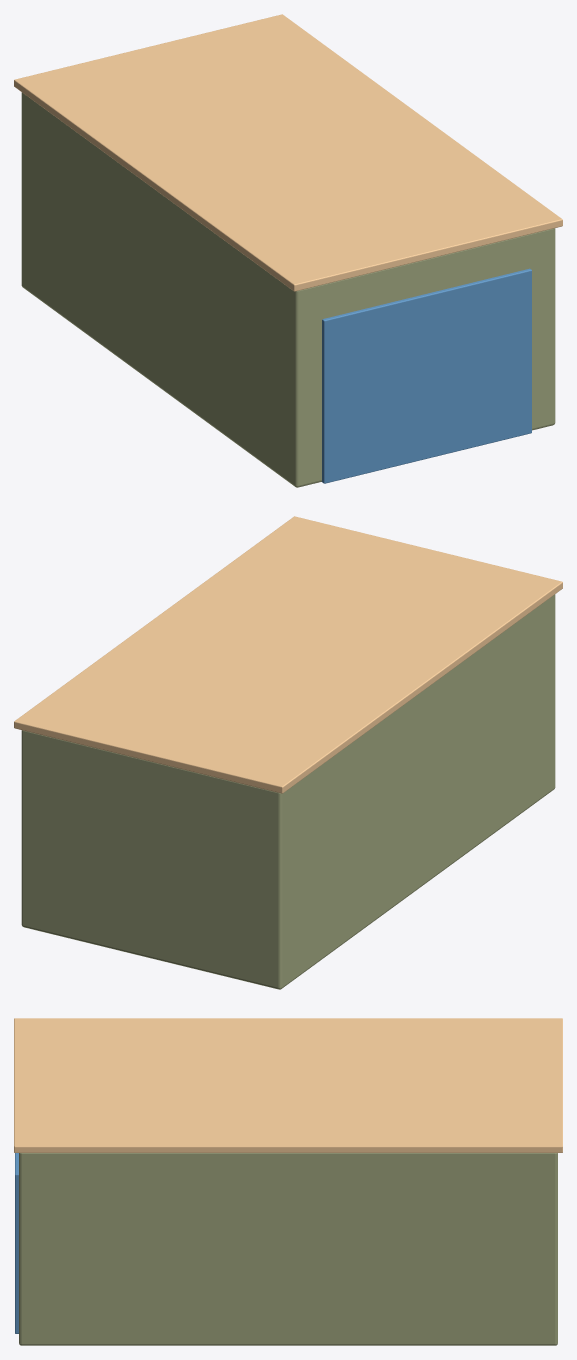
Rendered from garage.glb.
3 views of the same model, one above another, from view 1: azimuth 30°, elevation 25°; view 2: azimuth 150°, elevation 25°; view 3: azimuth 270°, elevation 25° (orthographic). The views are drawn at different scales.
Visible parts, largest first — view 1: garage_rim, garage, garage_door; view 2: garage, garage_rim; view 3: garage, garage_rim, garage_door.
Boxes of the visible parts, box(x1,y1,x2,y2) form: garage_rim: box(14, 14, 562, 291); garage: box(21, 92, 555, 487); garage_door: box(321, 268, 531, 483); garage: box(21, 594, 555, 989); garage_rim: box(14, 516, 562, 793); garage: box(19, 1153, 557, 1345); garage_rim: box(14, 1018, 562, 1152); garage_door: box(15, 1153, 18, 1333).
Size of the model in its own units: 3.1 by 2.28 by 5.6.
